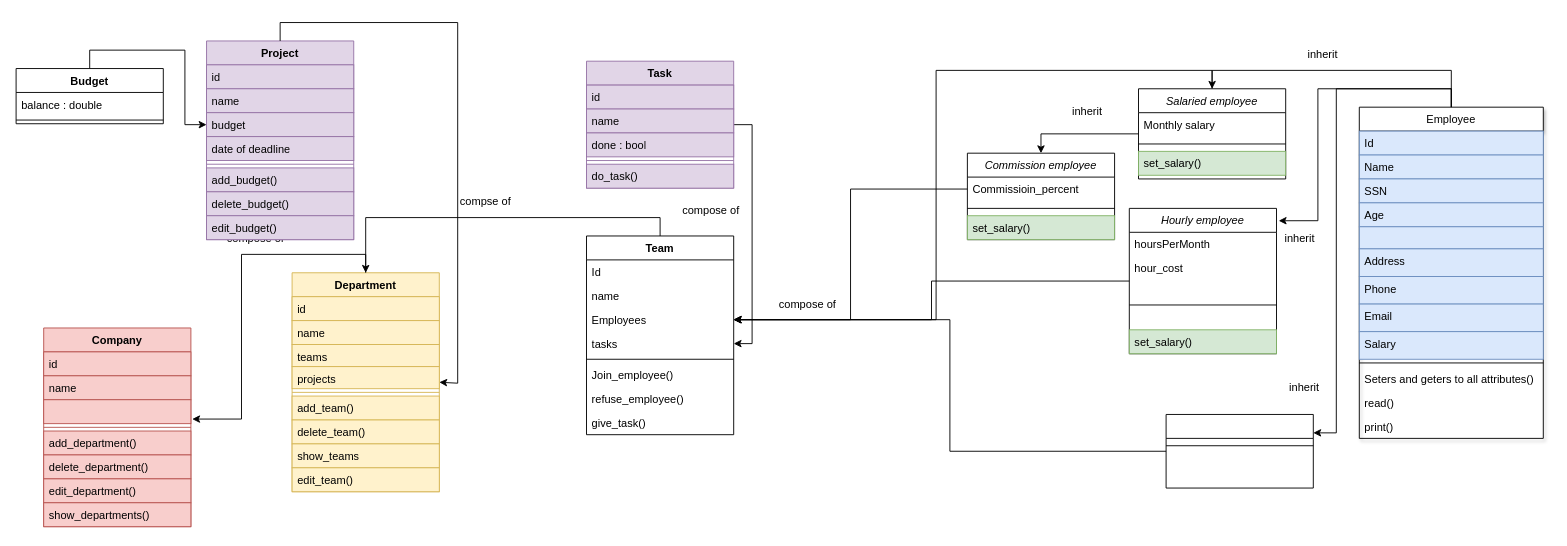
The diagram is 1567 pixels wide and 546 high, and some of its shapes have lost their labels. Here are the shapes that lost their labels. From the top down, the centre of each, then its label:
At [1450,237]: "Sex".
At [117,411]: "departments".
At [1239,451]: "Trainee".
